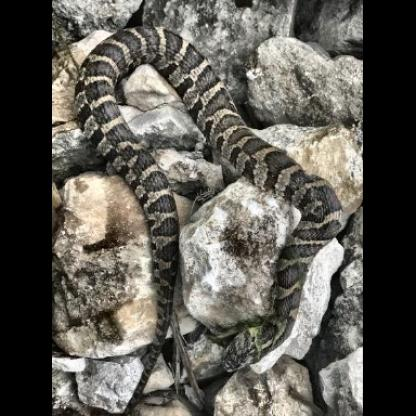Snake: (55, 8, 360, 413)
